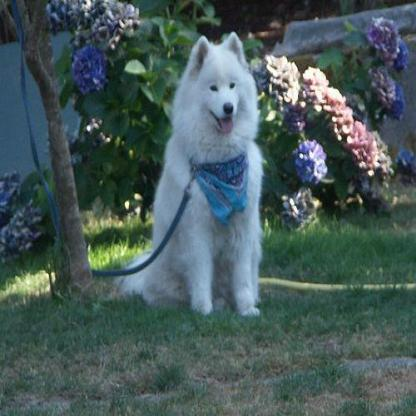Samoyed: (117, 30, 263, 315)
